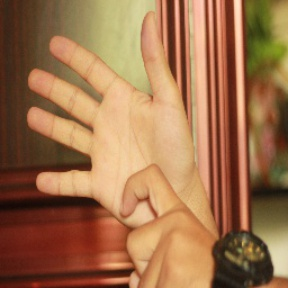R: (25, 12, 218, 286)
